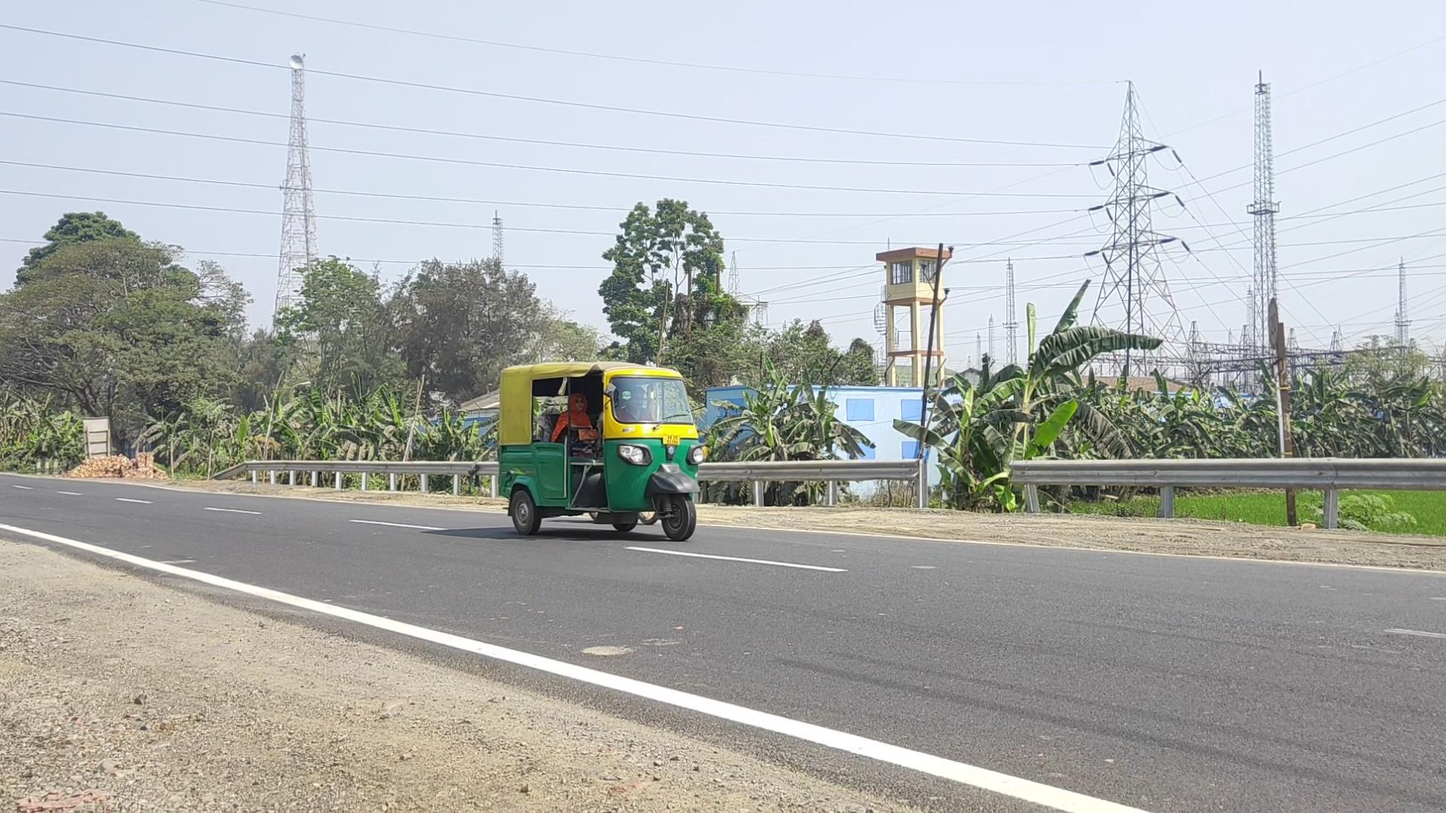Auto: (497, 361, 706, 543)
